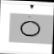no answer: (17, 19, 42, 38)
